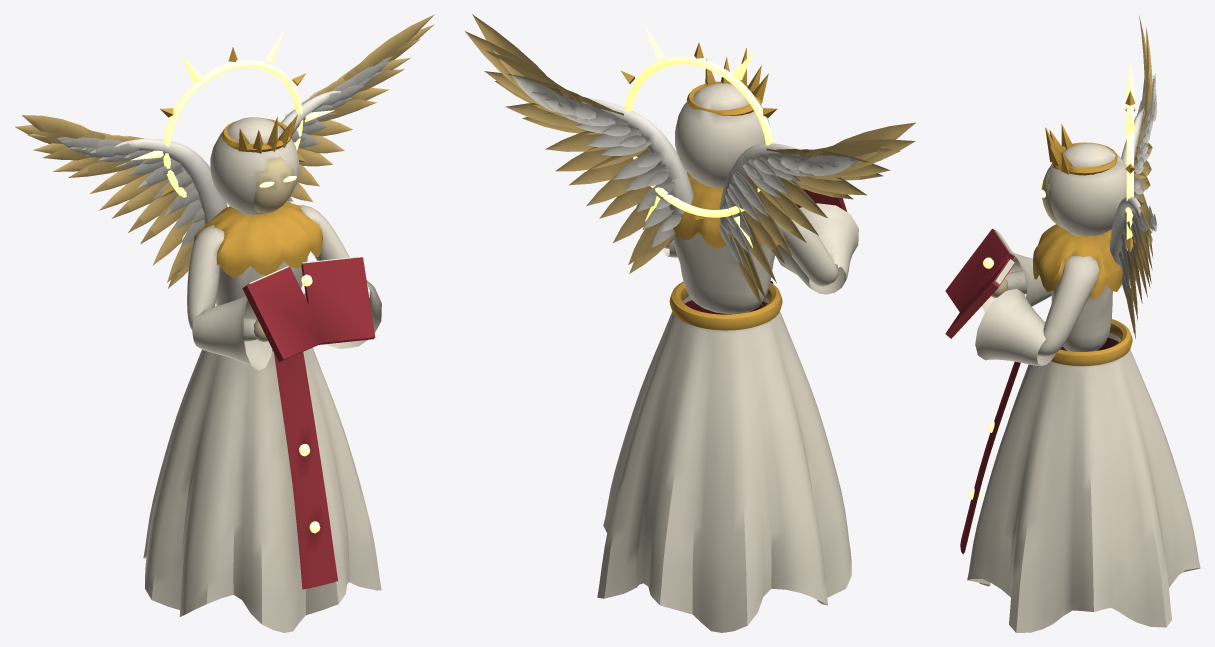
Rendered from icon_choir.glb.
3 renders of one model, left to right at view 1: azimuth 30°, elevation 25°; view 2: azimuth 150°, elevation 25°; view 3: azimuth 270°, elevation 25°, orthographic. The views are drawn at different scales.
Parts seen in each view (by area): view 1: body, wing_L_a, wing_R_a, spin_z_halo; view 2: body, wing_R_a, wing_L_a, spin_z_halo; view 3: body, wing_R_a, wing_L_a, spin_z_halo.
Boxes of the visible parts, x1,y1,x2,y2 form: body: [143, 114, 381, 632]; wing_L_a: [15, 115, 227, 288]; wing_R_a: [281, 14, 434, 202]; spin_z_halo: [131, 30, 334, 239]; body: [597, 48, 858, 632]; wing_R_a: [465, 14, 693, 273]; wing_L_a: [719, 122, 915, 306]; spin_z_halo: [621, 24, 777, 247]; body: [945, 124, 1200, 632]; wing_R_a: [1110, 196, 1156, 338]; wing_L_a: [1121, 16, 1157, 280]; spin_z_halo: [1125, 63, 1135, 288].
Bounding box in the file's own units: 1.64 × 1.97 × 0.9002.
